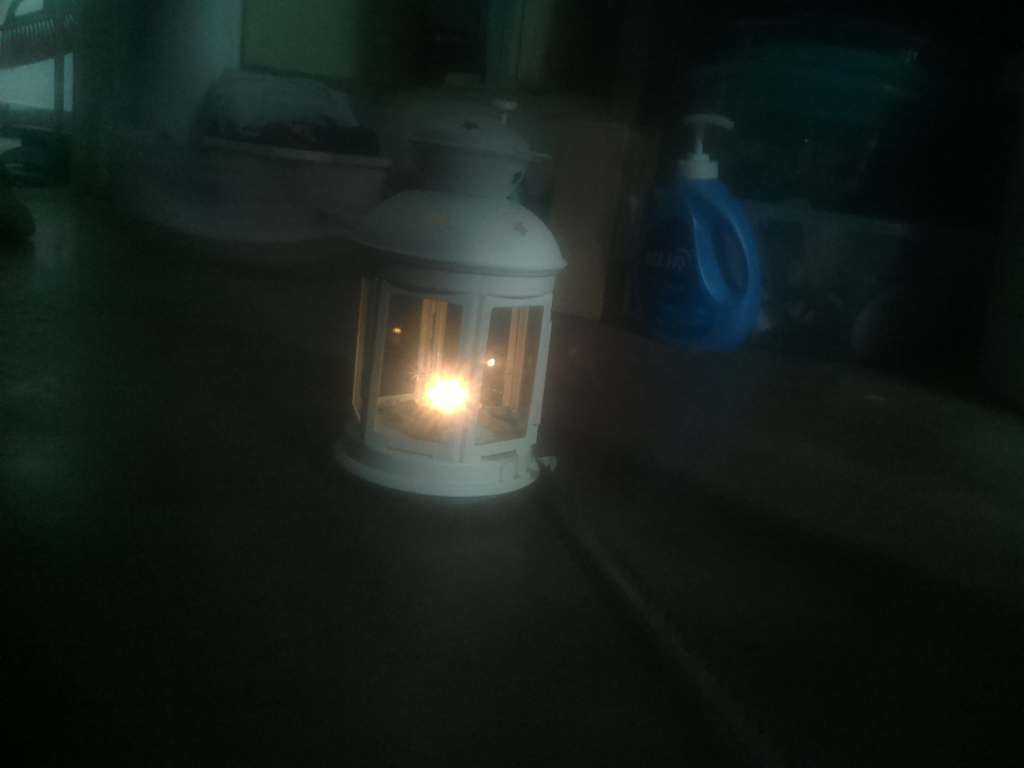fire: (389, 351, 517, 439)
